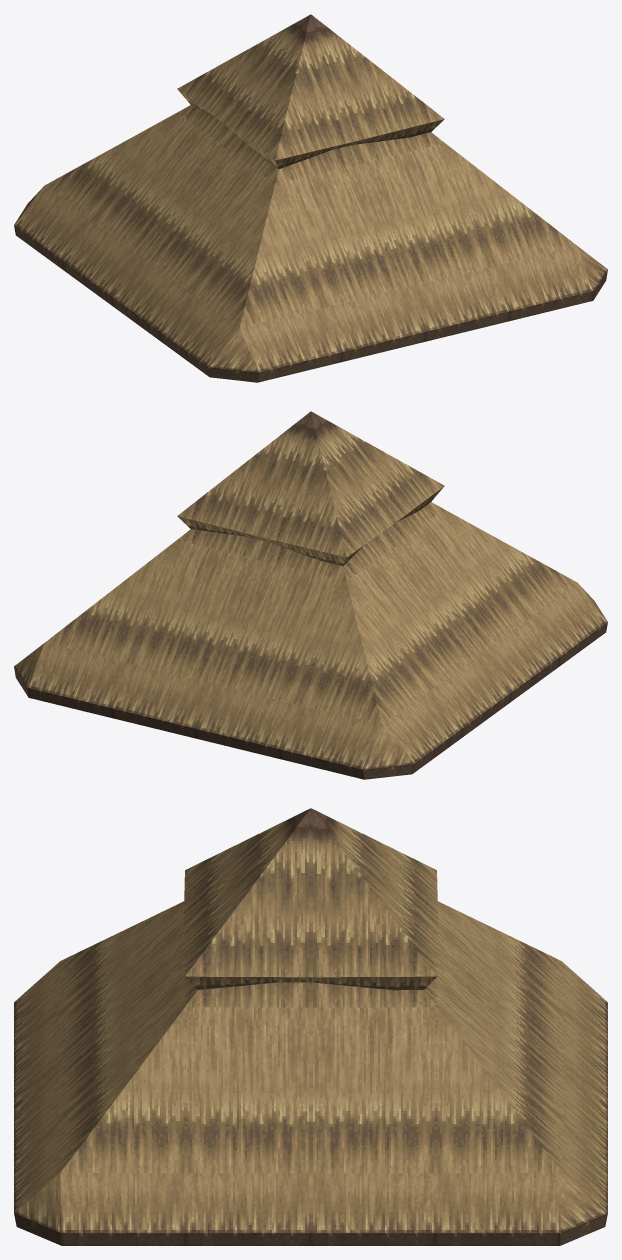
The model's file is roof_straw_square_fancy.glb.
3 views of the same model, one above another, from view 1: azimuth 30°, elevation 25°; view 2: azimuth 150°, elevation 25°; view 3: azimuth 270°, elevation 25° (orthographic). The views are drawn at different scales.
Visible parts, largest first — view 1: roof_straw_square_fancy; view 2: roof_straw_square_fancy; view 3: roof_straw_square_fancy.
Boxes of the visible parts, box(x1,y1,x2,y2) form: roof_straw_square_fancy: box(14, 14, 607, 382); roof_straw_square_fancy: box(14, 411, 607, 779); roof_straw_square_fancy: box(14, 808, 607, 1245).
Size of the model in its own units: 4.76 by 2.77 by 4.76.
Materials: 1 (1 with a texture image).
